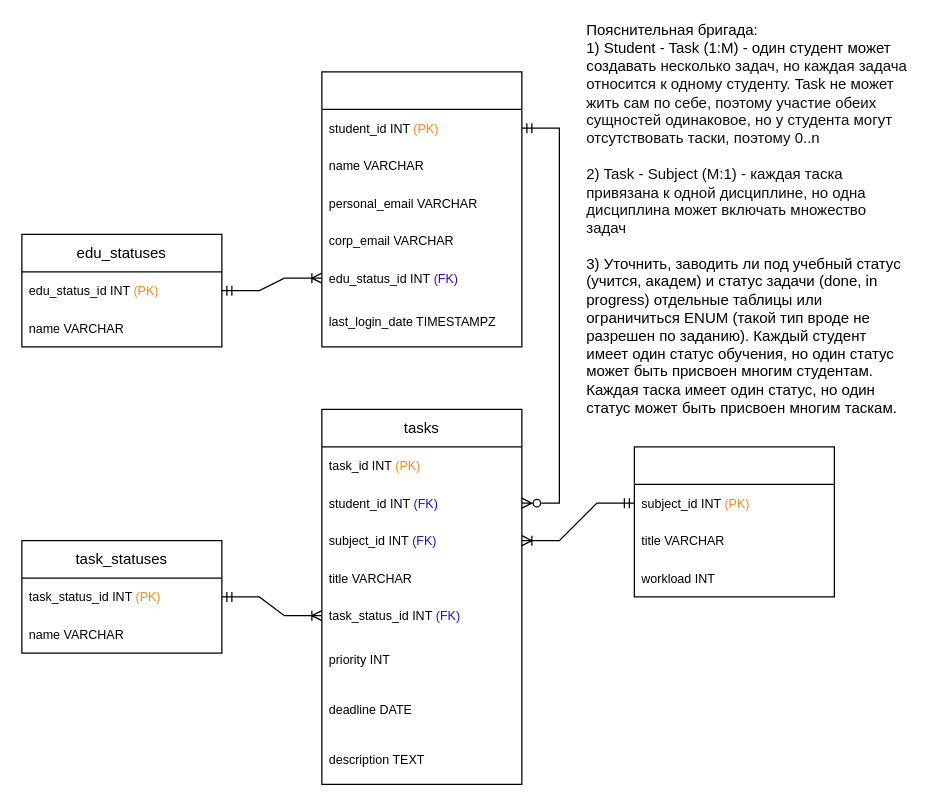
Image size: 931x806. Some labels were removed from this diagram. The box of each missing label's shape, as (x1, y1, x2, y2) in pixels:
students: (321, 71, 522, 347)
subjects: (633, 446, 834, 597)
